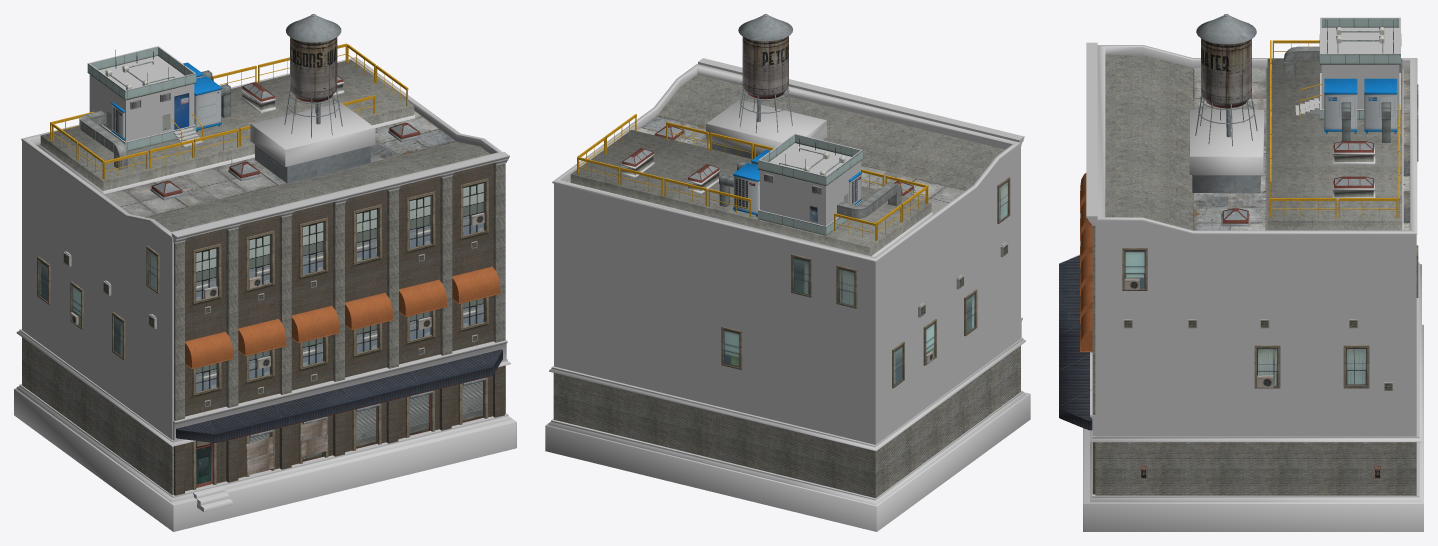
The model's file is u2NEBuild10.gltf.
3 renders of one model, left to right at view 1: azimuth 30°, elevation 25°; view 2: azimuth 150°, elevation 25°; view 3: azimuth 270°, elevation 25°, orthographic. The views are drawn at different scales.
Parts seen in each view (by area): view 1: u2NEBuild10; view 2: u2NEBuild10; view 3: u2NEBuild10.
Boxes of the visible parts, x1,y1,x2,y2 form: u2NEBuild10: (14,14,516,531); u2NEBuild10: (545,14,1030,531); u2NEBuild10: (1059,14,1423,531).
Bounding box in the file's own units: 8.83 × 10.26 × 7.6.
